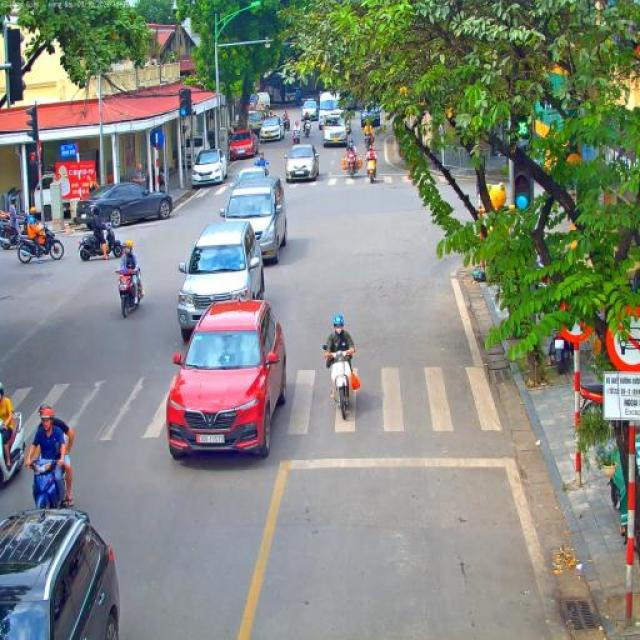car: (165, 299, 287, 460), (0, 507, 121, 640), (177, 220, 266, 341), (220, 176, 288, 264), (76, 182, 173, 228), (191, 148, 229, 190), (284, 144, 320, 183), (229, 166, 270, 189), (229, 130, 259, 160), (322, 115, 348, 146), (259, 117, 285, 143), (360, 103, 381, 129), (246, 110, 262, 136), (300, 100, 320, 120)
motorcycle: (26, 442, 69, 510), (322, 344, 357, 420), (0, 412, 28, 487), (17, 221, 65, 264), (78, 222, 126, 262), (115, 264, 143, 318), (0, 208, 29, 250), (548, 326, 572, 376), (579, 381, 605, 413), (365, 155, 377, 184), (346, 150, 358, 178), (363, 128, 375, 152), (300, 119, 312, 138), (292, 129, 300, 146), (281, 117, 290, 131)
truck: (262, 71, 298, 107), (34, 172, 56, 222), (318, 91, 343, 130), (256, 92, 270, 112)
